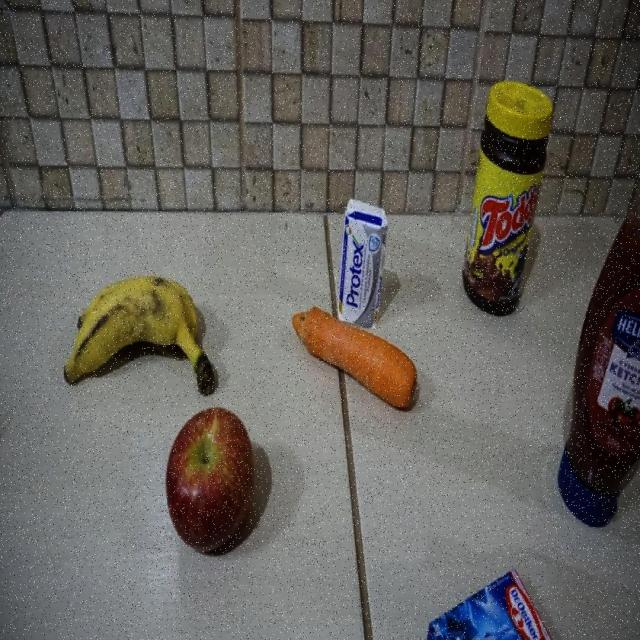Apple: (164, 403, 256, 548)
Banana: (68, 273, 219, 398)
Carrot: (289, 308, 420, 410)
ChocolatePowder: (460, 73, 552, 314)
Gelatine: (420, 572, 561, 640)
Ketchup: (558, 198, 640, 529)
Soap: (338, 192, 388, 301)
